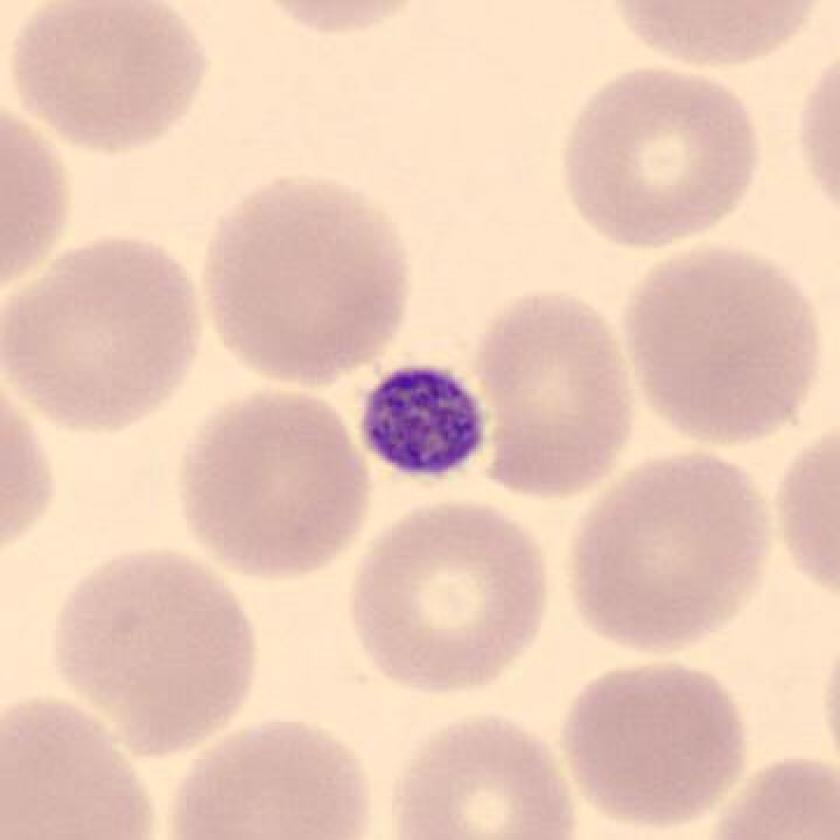platelets: (349, 355, 500, 489)
